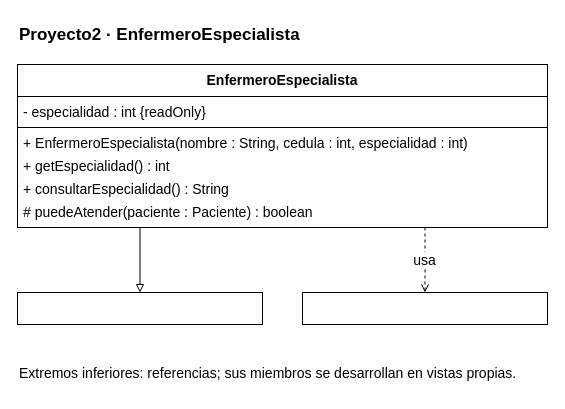
This 565x409 diagram has some shape labels left out. Each missing label, with the centre of its shape:
Enfermero: point 139,308
Paciente: point 425,308
